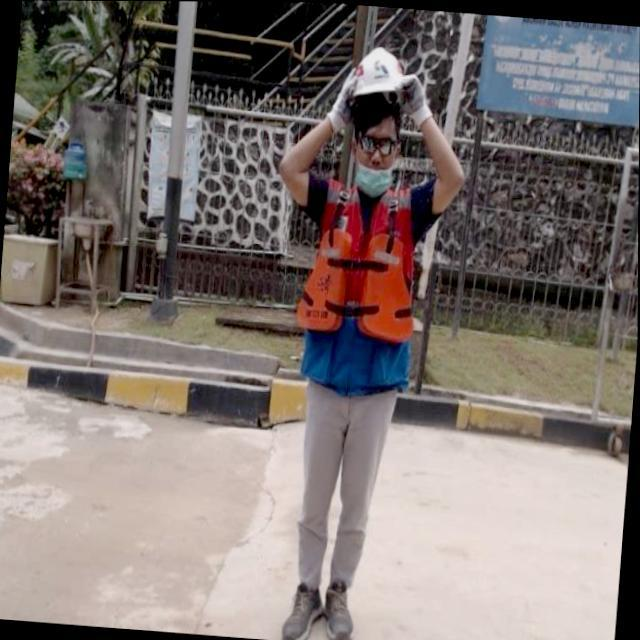goggles_on: (347, 129, 406, 162)
